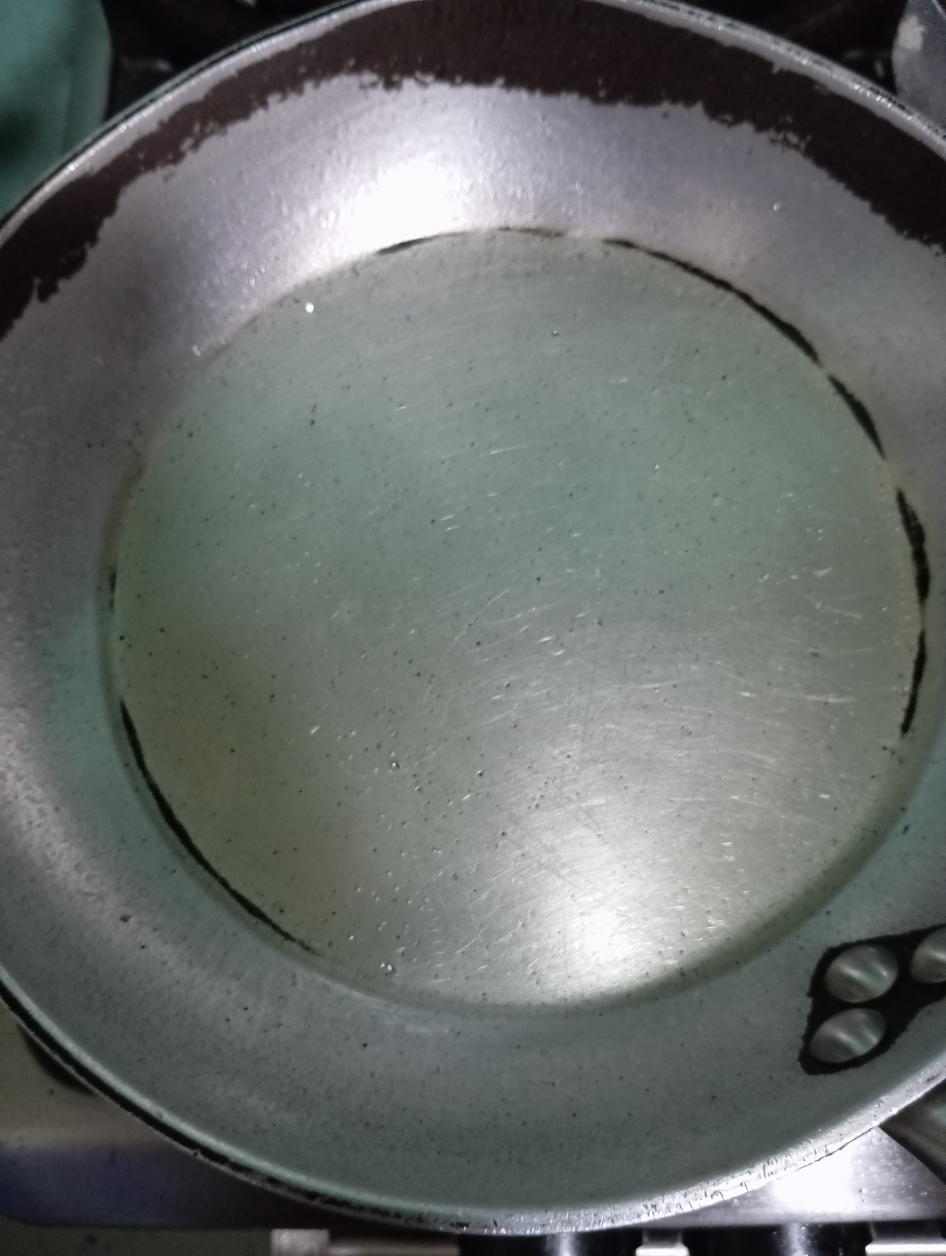reusable: (114, 234, 912, 1013)
